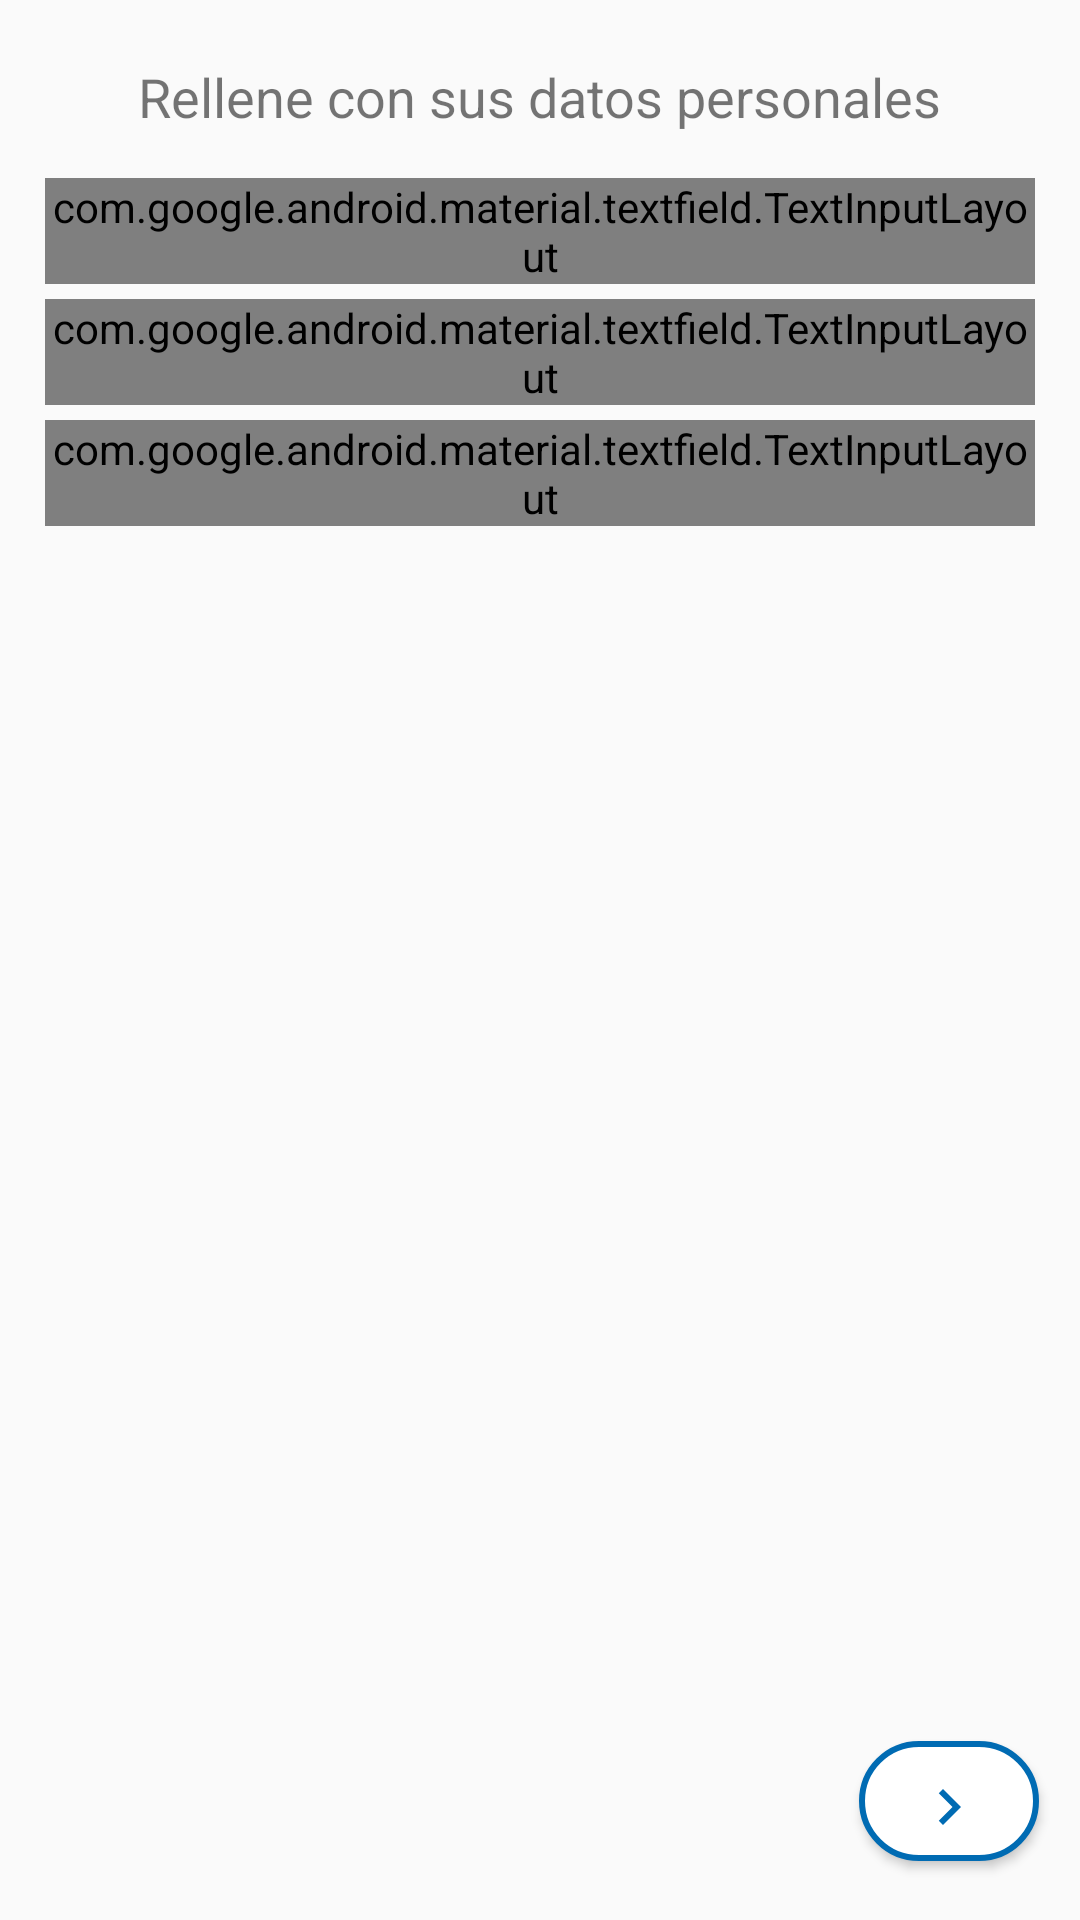

Icon bounding boxes for this 1080x1920 phone screenshot, format [x1=x1, y1=y1, x2=x2, y2=y2]:
botonsecundario: [x1=859, y1=1741, x2=1039, y2=1861]
